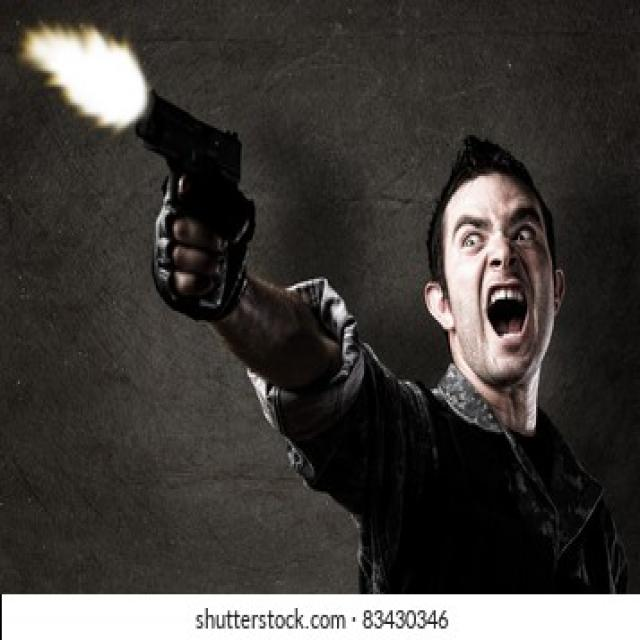handgun: (133, 88, 243, 223)
